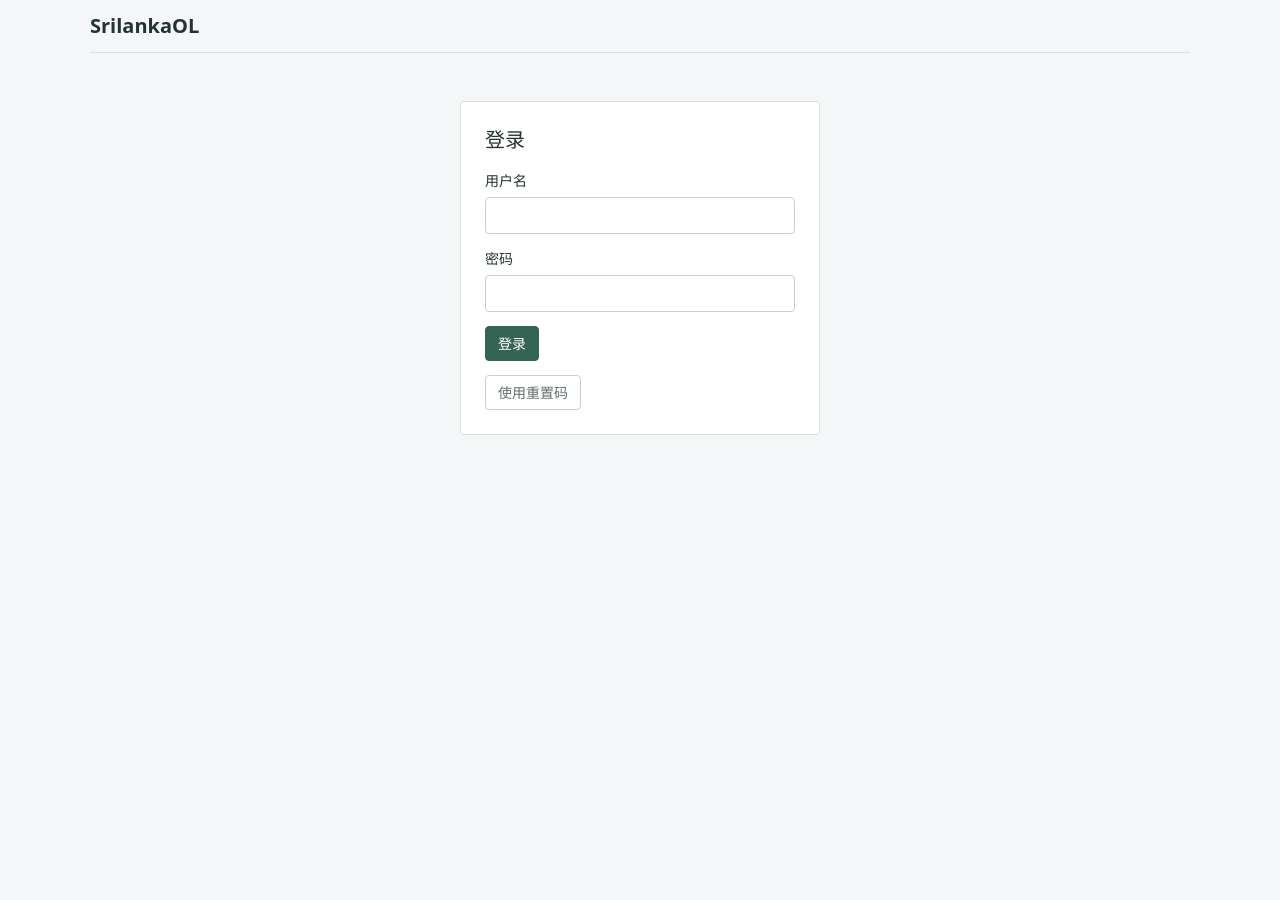
Scenario: App › logs in and renders the current user games
The image size is (1280, 900).
Type "host" into the field labelled "用户名" at (640, 216), box [485,197,795,234]
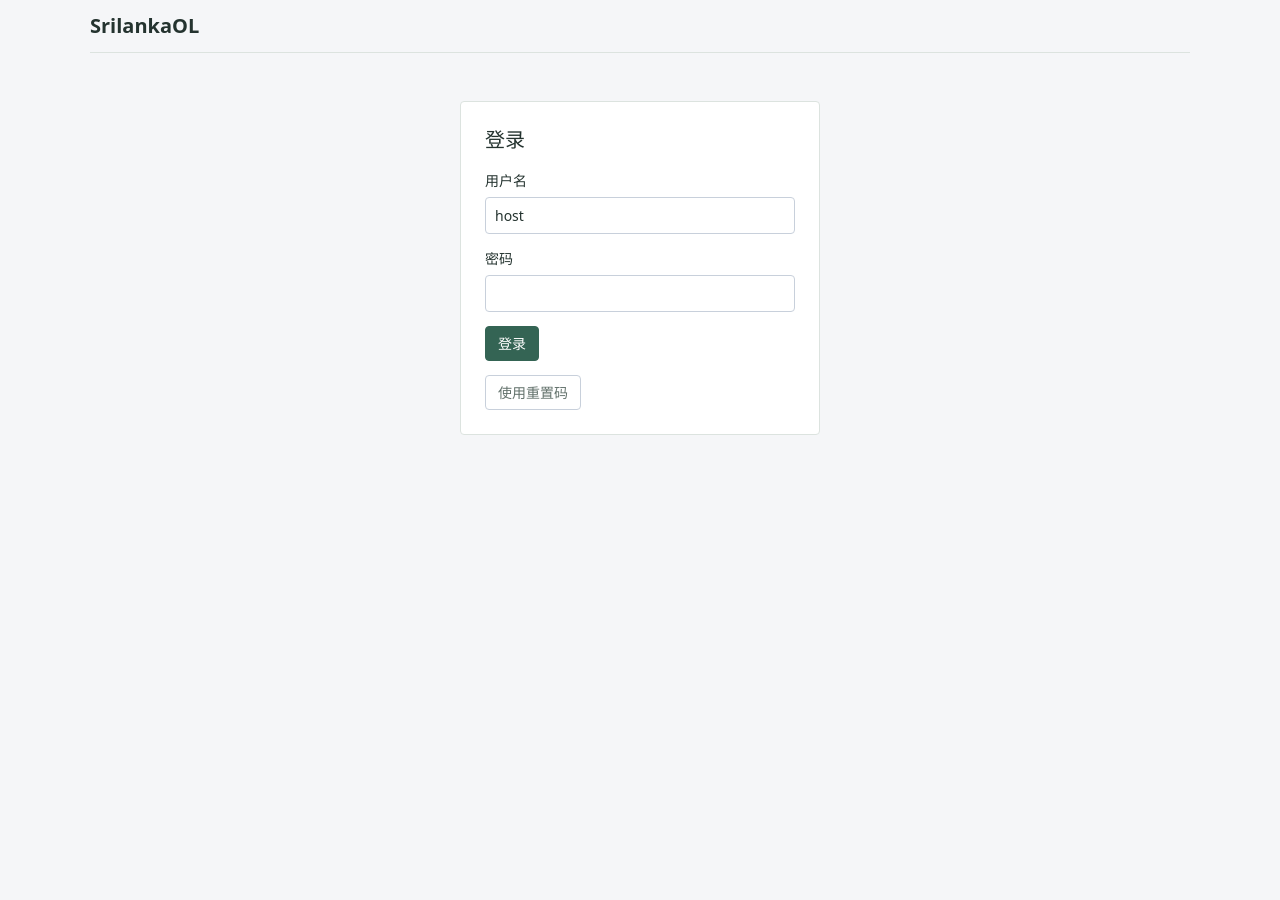
Type "host-password-123" into the password field labelled "密码" at (640, 294), box [485,275,795,312]
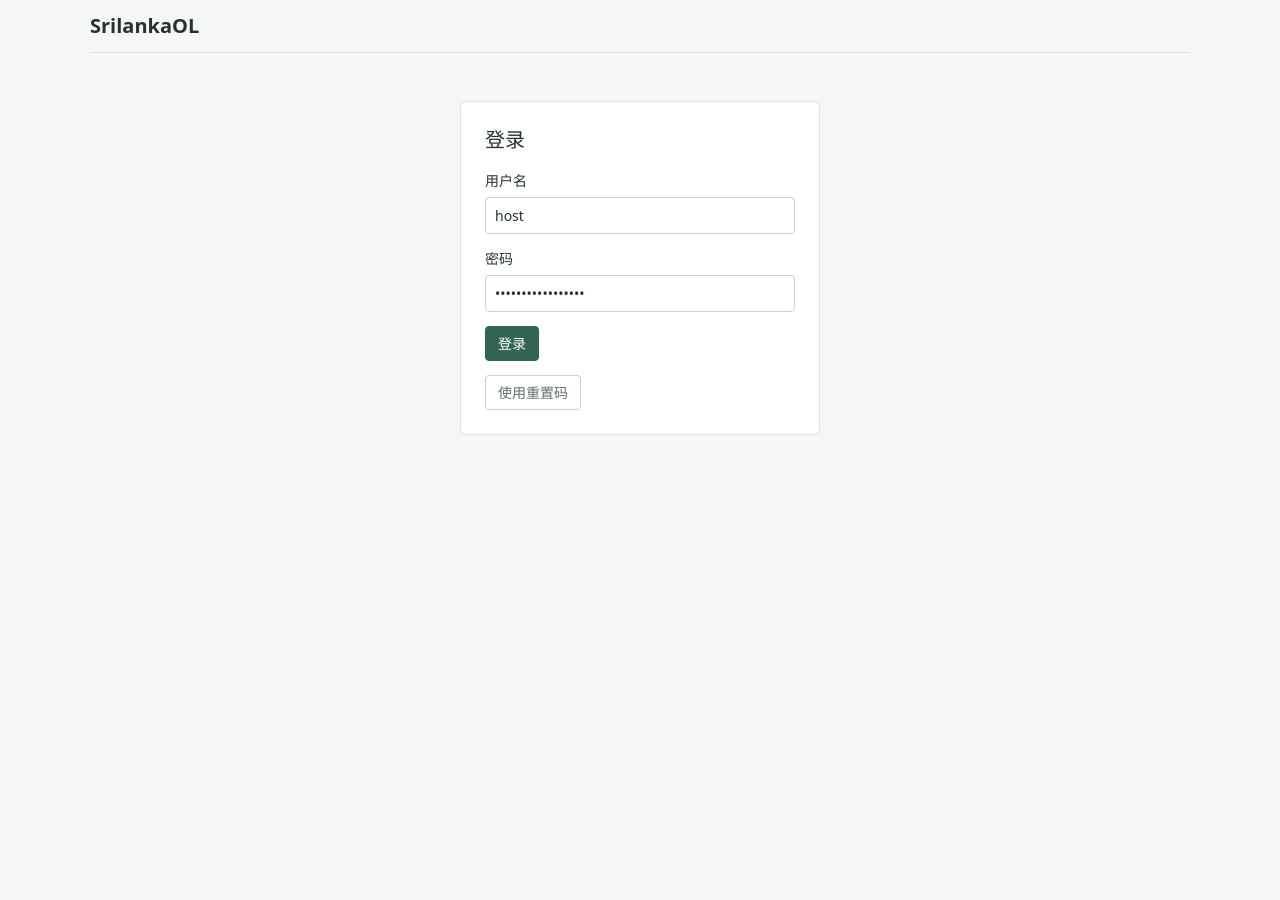
Click the button "登录" at (512, 344), box [485,326,539,361]
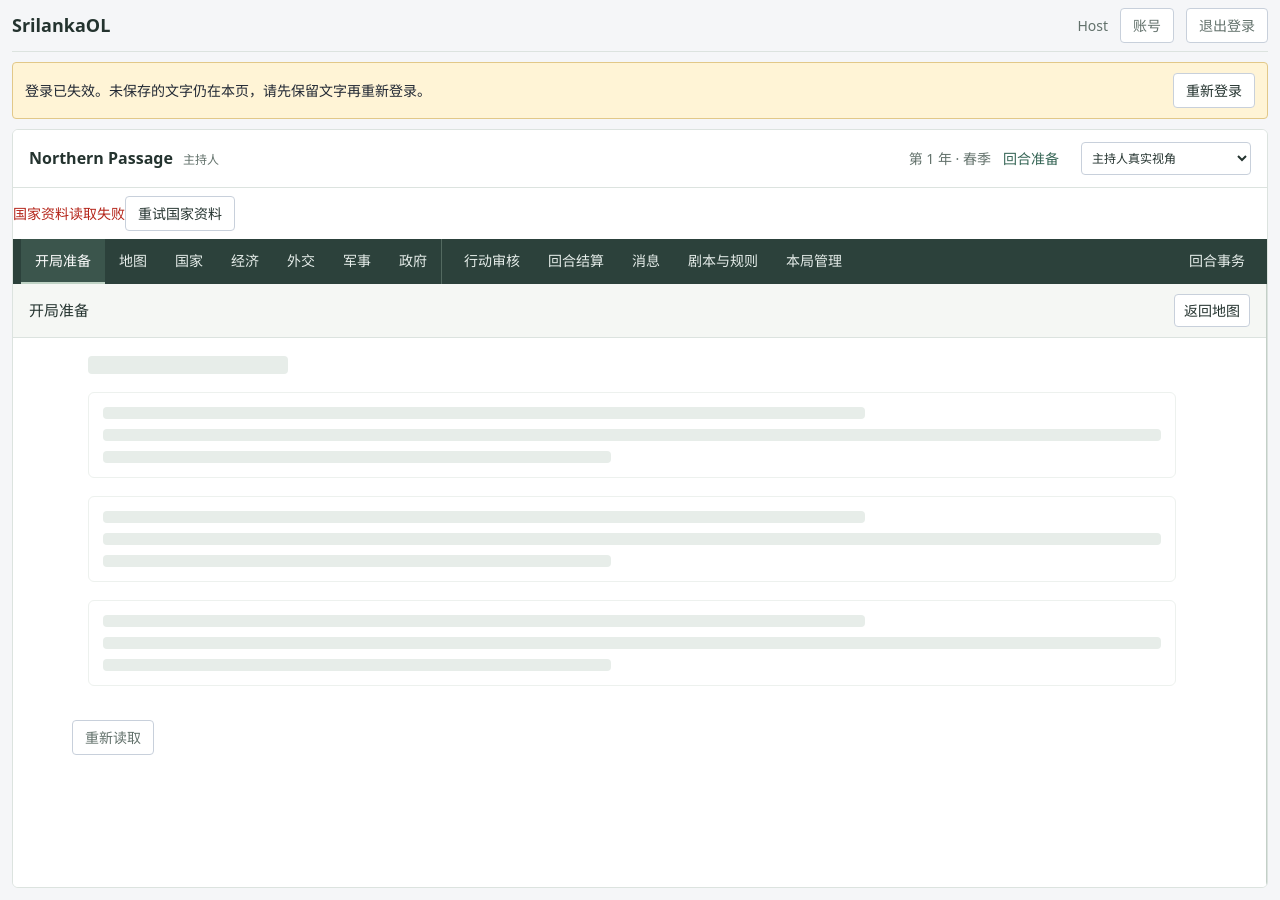
Now the heading "Northern Passage" is shown, box [29,147,173,170]
Now the text "Host" is shown, box [1077,15,1108,36]
Click the button "本局管理" at (814, 262), box [772,239,856,284]
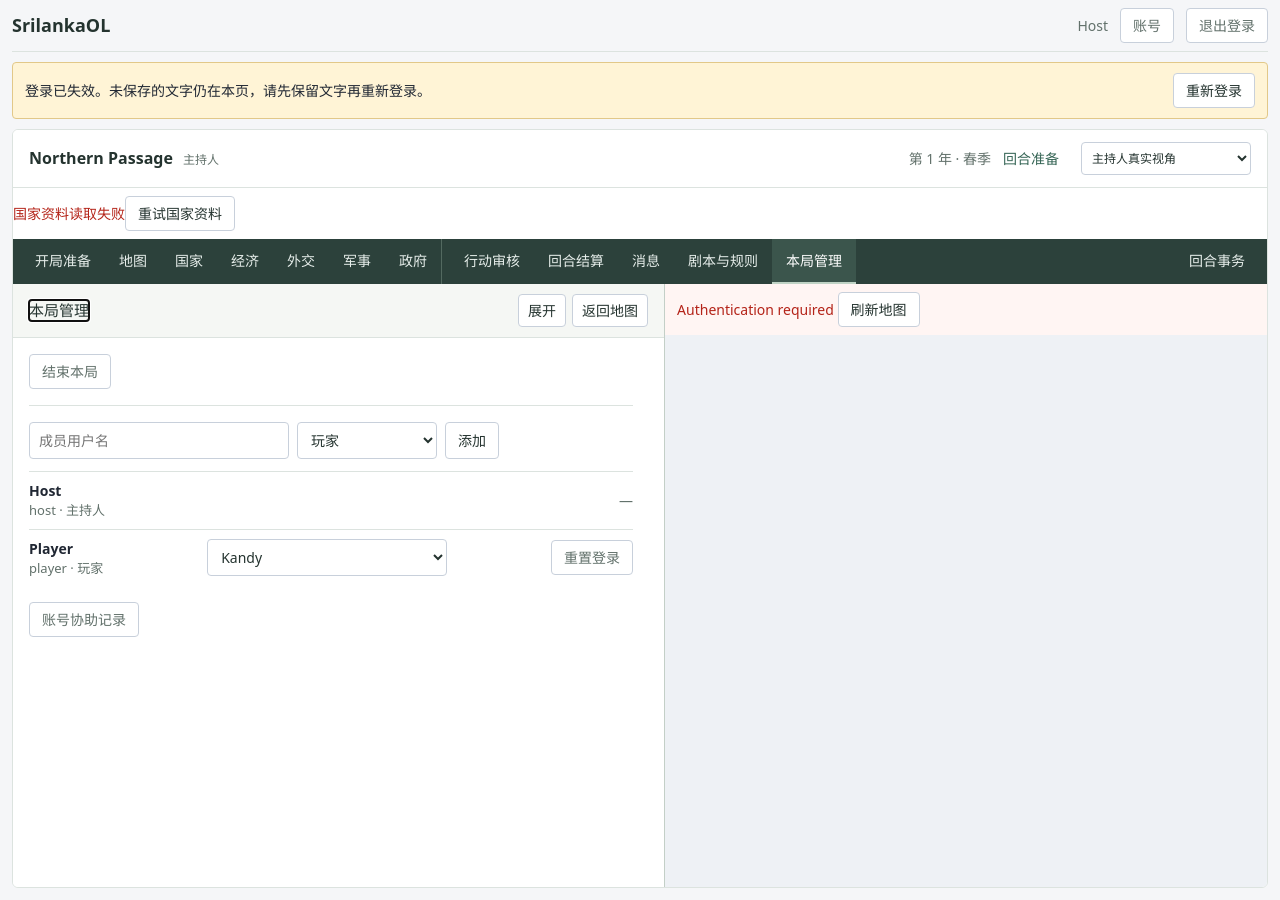
Now the heading "本局管理" is shown, box [29,300,89,321]
Select "Player · Kandy" in the dropdown named "玩家视角预览" at (1166, 158), box [1081,142,1251,175]
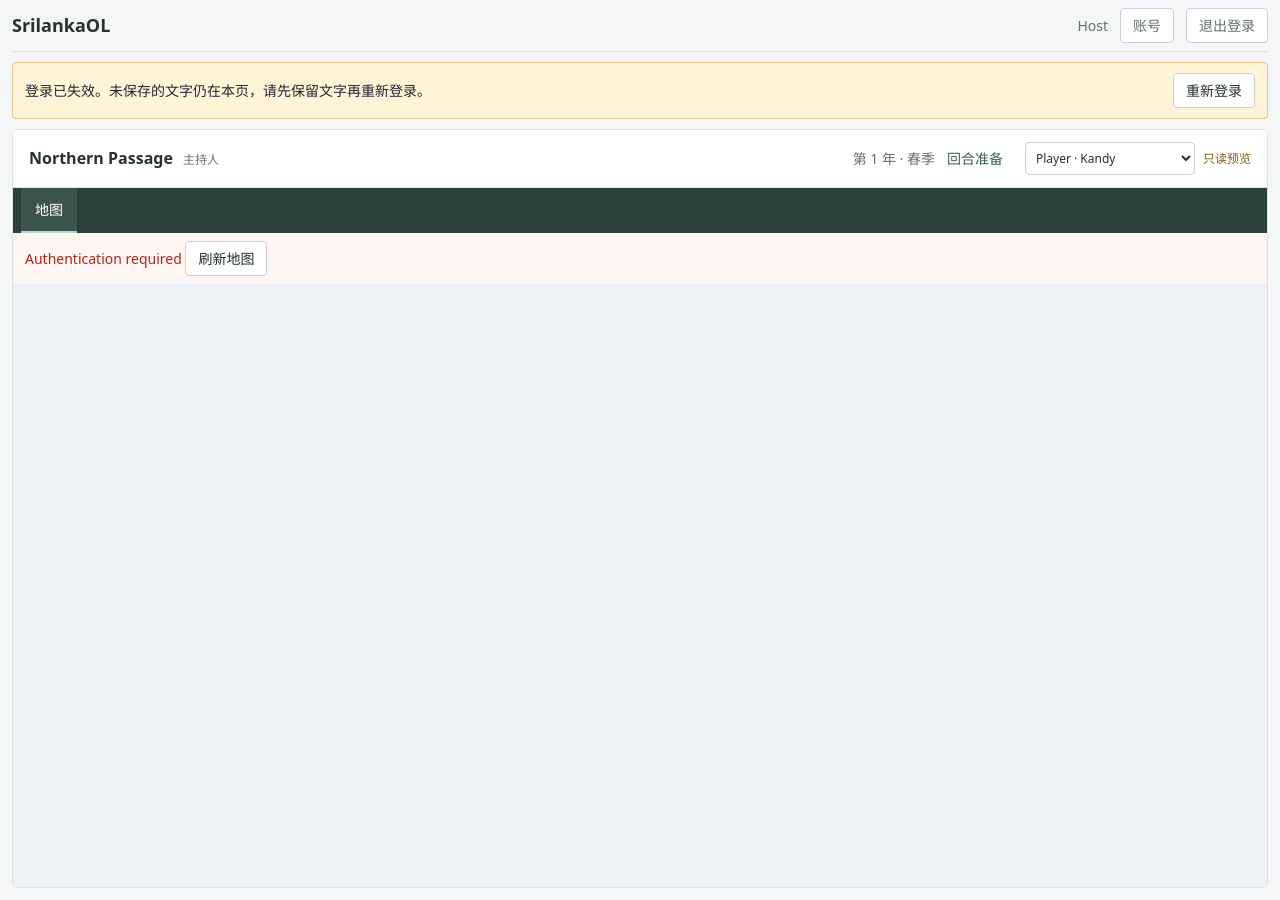
Now the text "只读预览" is shown, box [1203,150,1251,168]
